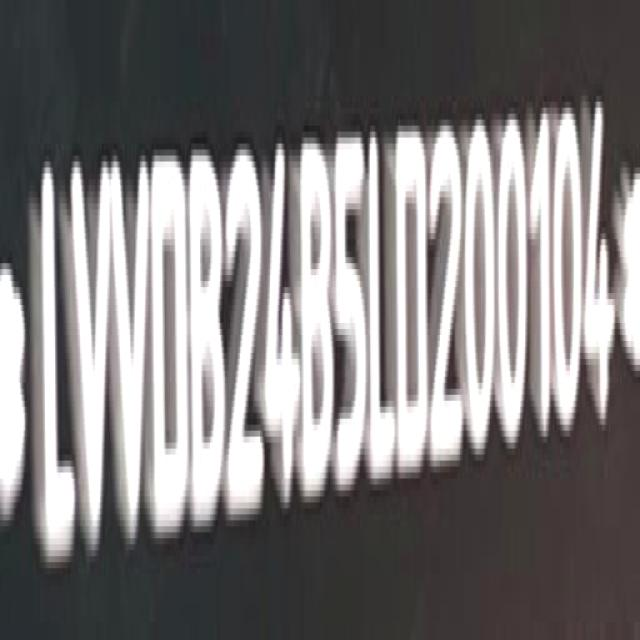0: (462, 115, 498, 472), (499, 112, 533, 460), (553, 101, 587, 445)
1: (529, 103, 552, 450)
2: (224, 142, 266, 537), (430, 119, 468, 484)
4: (264, 136, 299, 522), (585, 94, 620, 437)
5: (336, 128, 369, 498)
B: (190, 146, 229, 544), (300, 132, 336, 519)
D: (151, 150, 191, 548), (393, 126, 432, 492)
L: (35, 168, 73, 573), (368, 124, 399, 502)
V: (111, 149, 153, 564), (71, 156, 113, 570)
